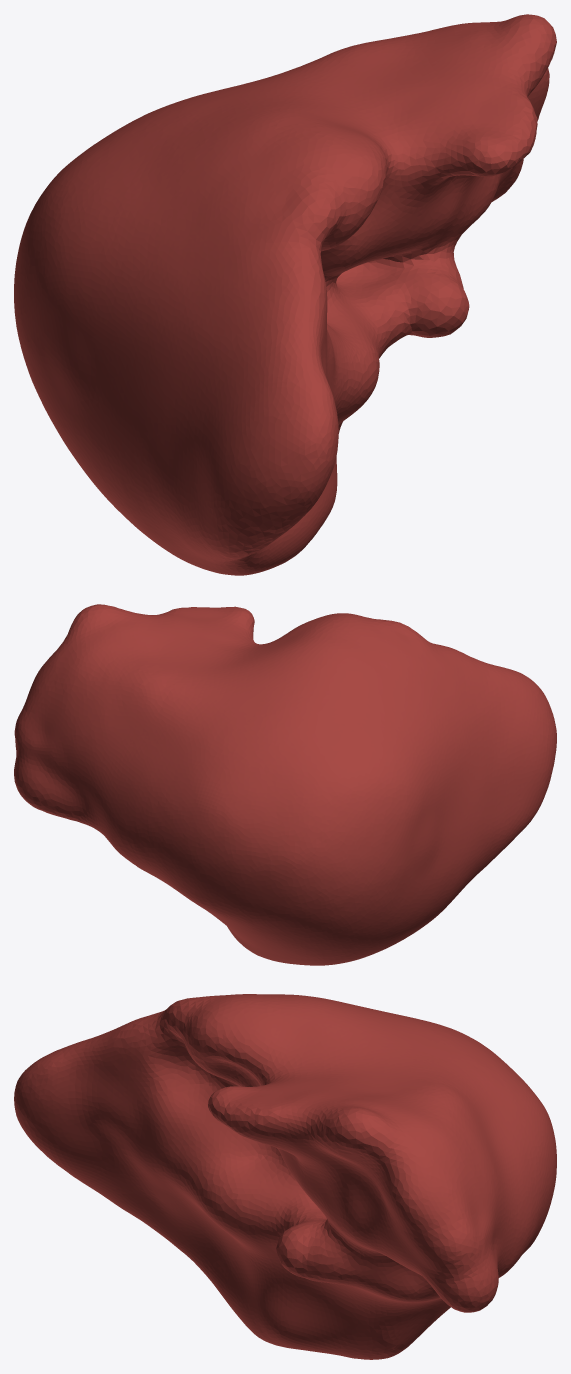
The model's file is liver2.fbx.
3 views of the same model, one above another, from view 1: azimuth 30°, elevation 25°; view 2: azimuth 150°, elevation 25°; view 3: azimuth 270°, elevation 25° (orthographic). The views are drawn at different scales.
Visible parts, largest first — view 1: liver; view 2: liver; view 3: liver.
Part boxes in pixels (box(x1,y1,x2,y2)): liver: box(14, 14, 556, 575); liver: box(14, 604, 556, 965); liver: box(14, 994, 556, 1359).
Size of the model in its own units: 18041 by 13886 by 19412.
